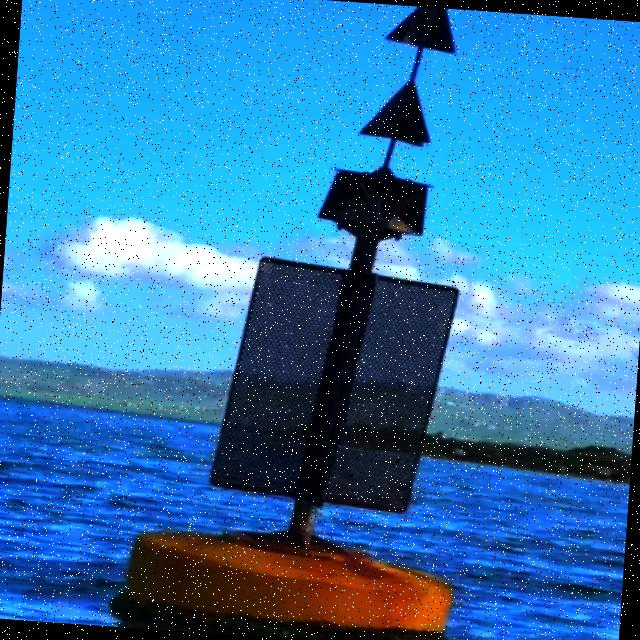marque: (133, 1, 490, 640)
